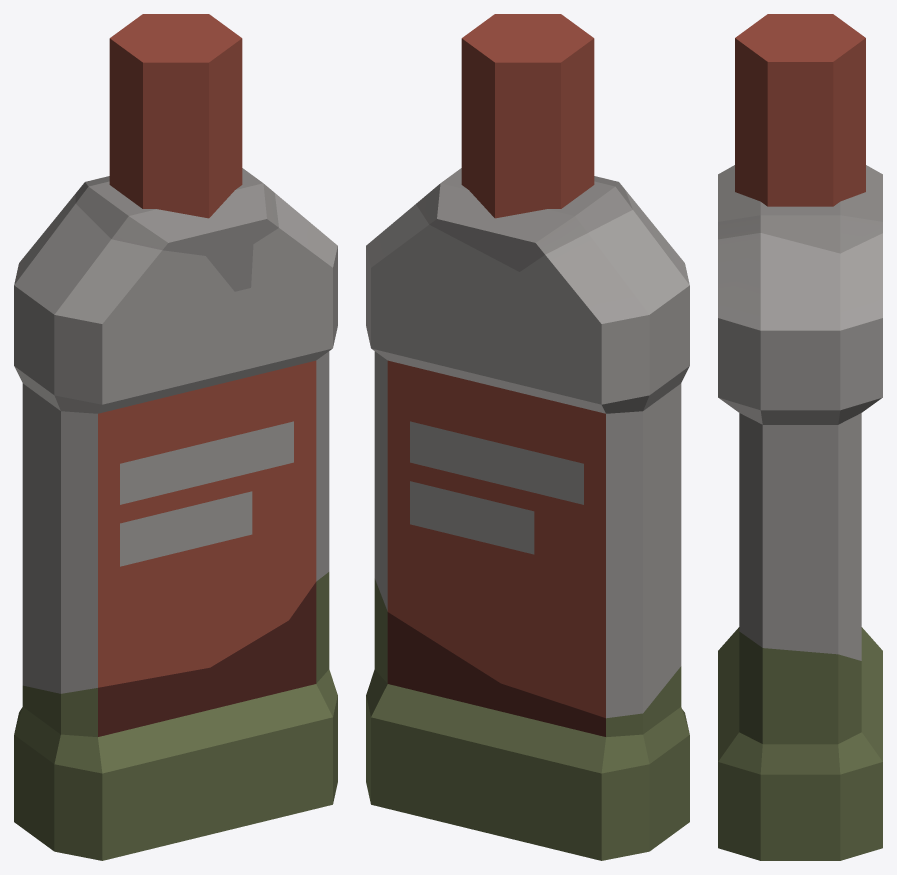
File: SM_Prop_Chemical_01.obj
3 views of the same model, side by side, from view 1: azimuth 30°, elevation 25°; view 2: azimuth 150°, elevation 25°; view 3: azimuth 270°, elevation 25° (orthographic).
Parts seen in each view (by area): view 1: SM_Prop_Chemical_01_0; view 2: SM_Prop_Chemical_01_0; view 3: SM_Prop_Chemical_01_0.
Boxes of the visible parts, x1,y1,x2,y2 form: SM_Prop_Chemical_01_0: (14,14,337,860); SM_Prop_Chemical_01_0: (366,14,689,860); SM_Prop_Chemical_01_0: (718,14,882,860).
Bounding box in the file's own units: 0.1374 × 0.3541 × 0.07.
1 material, 1 textured.
